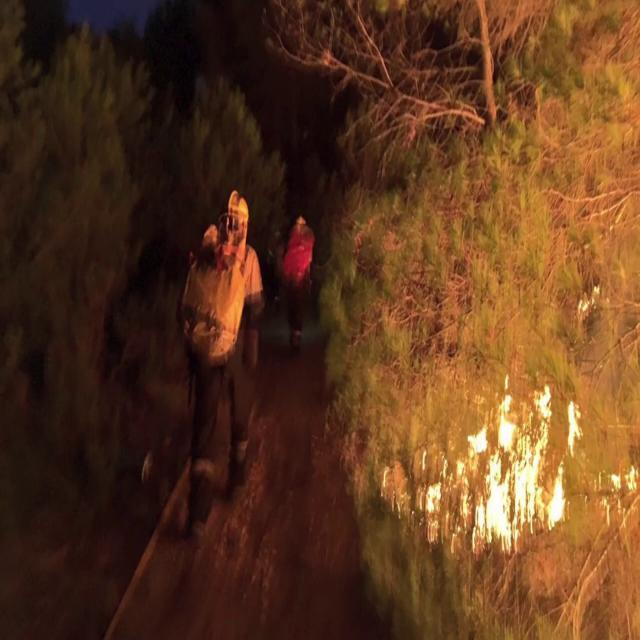Fire: (454, 356, 580, 558), (388, 446, 460, 546)
